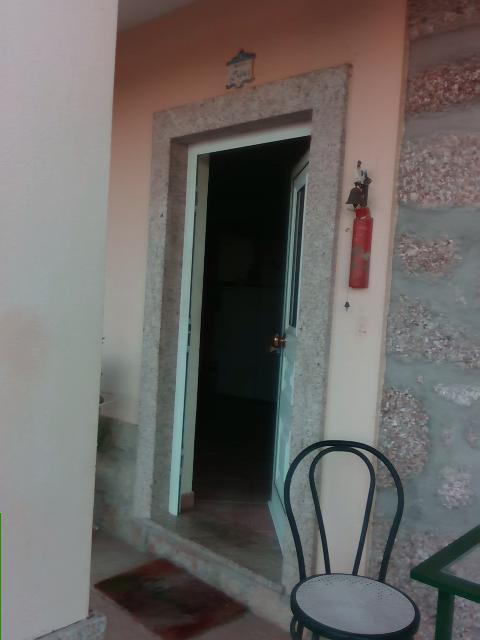semi_door: (148, 108, 336, 585)
